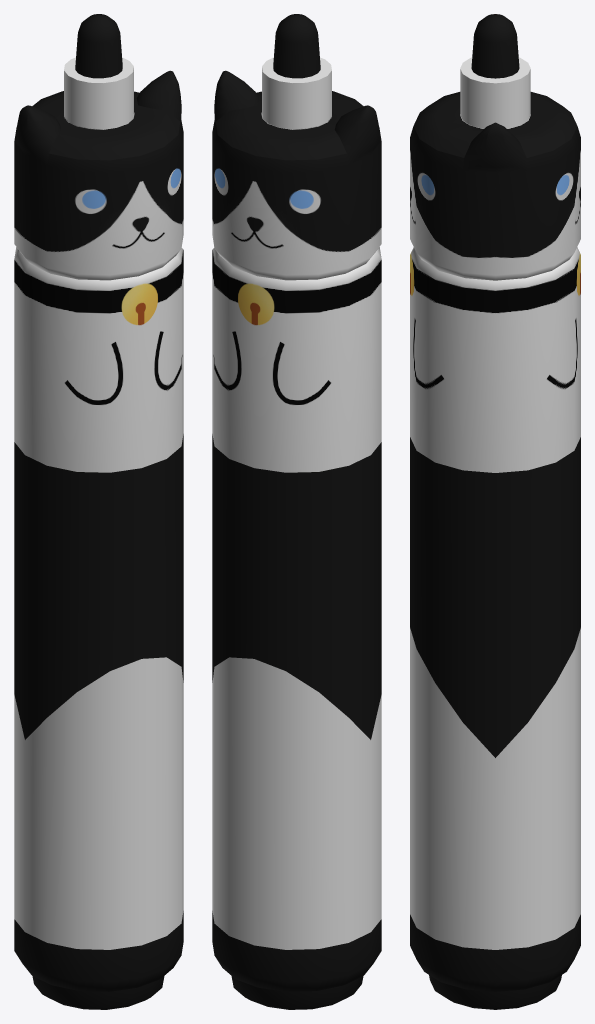
The model's file is Cat_Pen.fbx.
The picture shows the model from 3 angles, left to right: view 1: azimuth 30°, elevation 25°; view 2: azimuth 150°, elevation 25°; view 3: azimuth 270°, elevation 25°; orthographic projection.
Parts seen in each view (by area): view 1: Cat_Pen; view 2: Cat_Pen; view 3: Cat_Pen.
Boxes of the visible parts, <box> form: Cat_Pen: <box>14,14,183,1009</box>; Cat_Pen: <box>212,14,381,1009</box>; Cat_Pen: <box>410,14,580,1009</box>.
Bounding box in the file's own units: 18.8 × 110 × 17.61.
